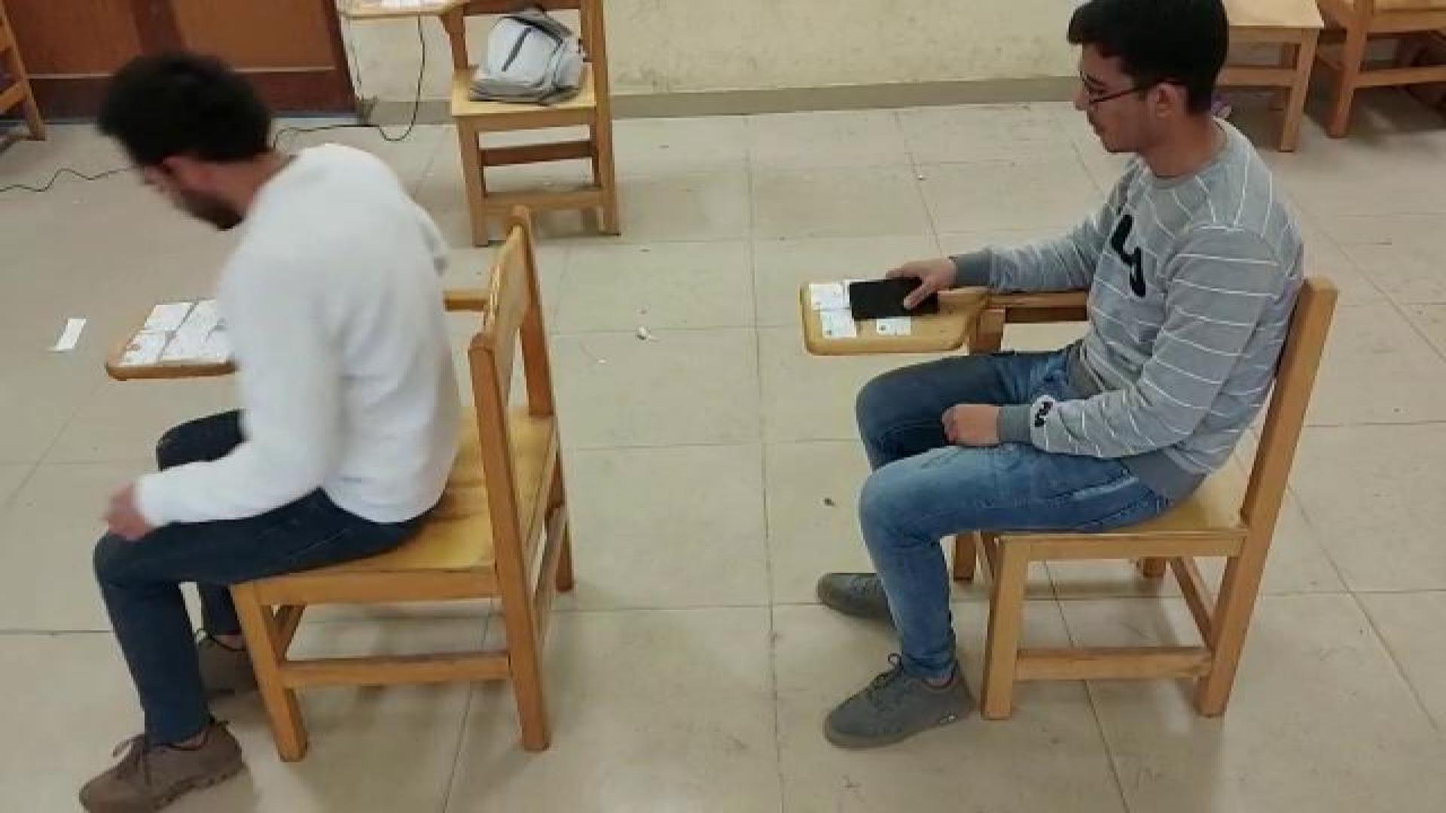phone: (850, 274, 942, 321)
